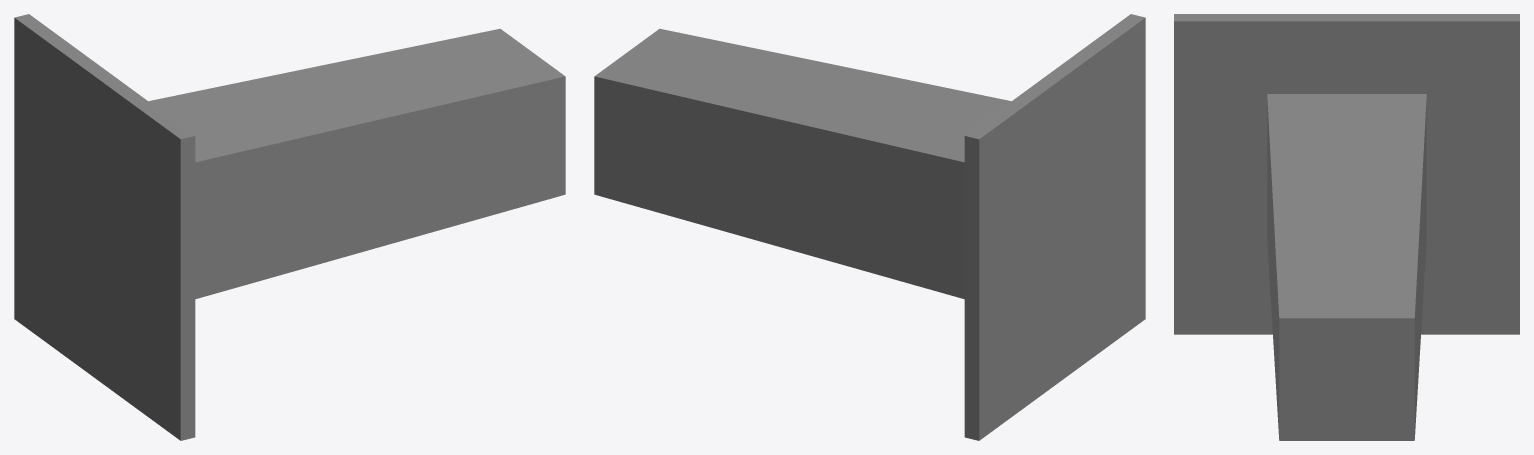
Rendered from CameraStand.fbx.
The picture shows the model from 3 angles, left to right: view 1: azimuth 30°, elevation 25°; view 2: azimuth 150°, elevation 25°; view 3: azimuth 270°, elevation 25°; orthographic projection. The views are drawn at different scales.
Visible parts, largest first — view 1: Cube.001; view 2: Cube.001; view 3: Cube.001.
Part boxes in pixels (left/top/right/bottom): Cube.001: left=14, top=14, right=565, bottom=440; Cube.001: left=594, top=14, right=1145, bottom=440; Cube.001: left=1174, top=14, right=1519, bottom=440.
Bounding box in the file's own units: 184 × 122 × 122.
1 material, 1 textured.
